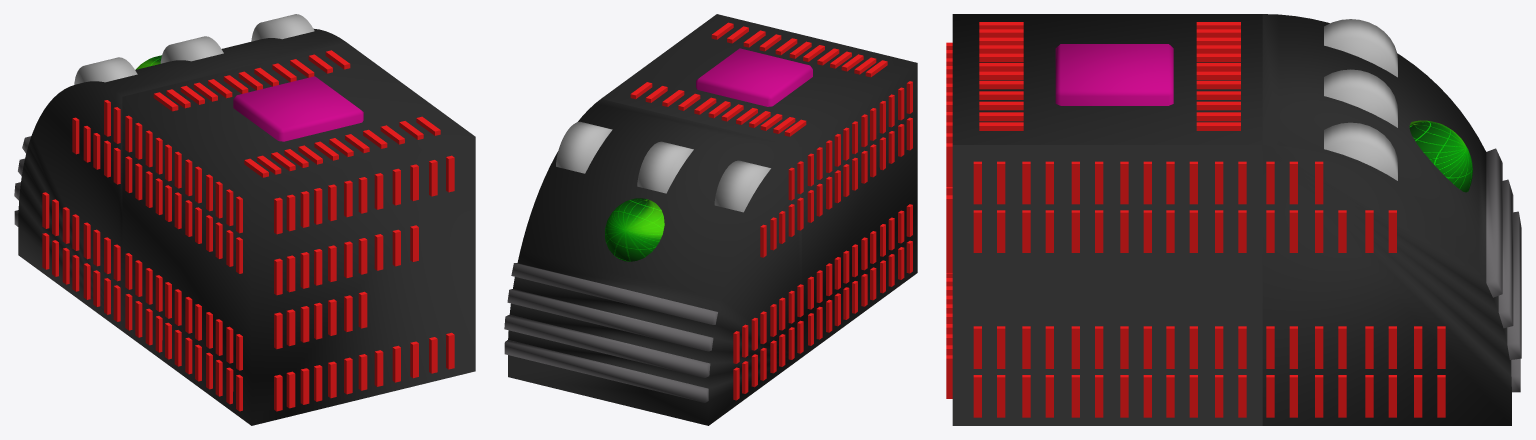
Rendered from Autopilot-Block_Small.fbx.
3 renders of one model, left to right at view 1: azimuth 30°, elevation 25°; view 2: azimuth 150°, elevation 25°; view 3: azimuth 270°, elevation 25°, orthographic. The views are drawn at different scales.
Parts seen in each view (by area): view 1: Cube.132, Cube.136, Cube.131, Cylinder.119; view 2: Cube.132, Cube.136, Cylinder.119, Cube.131, Sphere.031; view 3: Cube.132, Cube.136, Cylinder.119, Cube.131, Sphere.031.
Part boxes in pixels (x1,y1,x2,y2): Cube.132: (14, 28, 475, 425); Cube.136: (42, 50, 454, 411); Cube.131: (233, 76, 363, 141); Cylinder.119: (74, 14, 314, 84); Cube.132: (504, 14, 917, 425); Cube.136: (630, 22, 912, 400); Cylinder.119: (556, 121, 770, 212); Cube.131: (696, 48, 812, 106); Sphere.031: (605, 198, 664, 261); Cube.132: (952, 14, 1521, 425); Cube.136: (946, 22, 1445, 417); Cylinder.119: (1324, 19, 1397, 180); Cube.131: (1055, 44, 1173, 105); Sphere.031: (1409, 120, 1472, 192).
Size of the model in its own units: 0.517 by 0.5253 by 0.9275.
